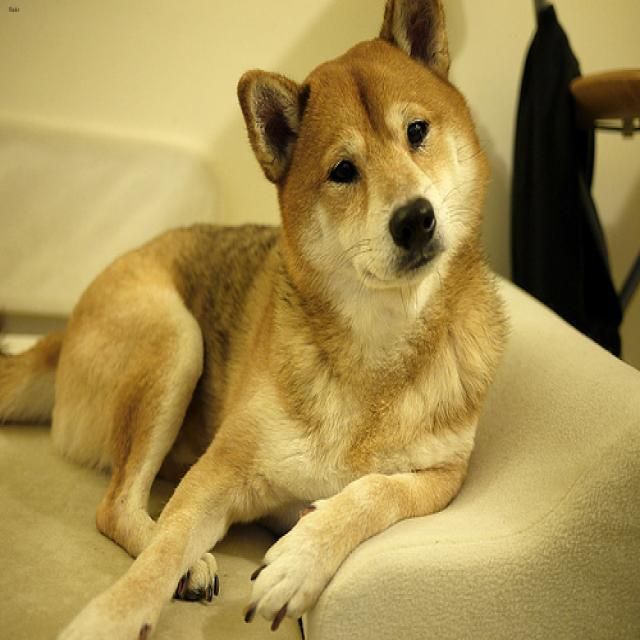dog-shiba_inu: (1, 2, 521, 637)
